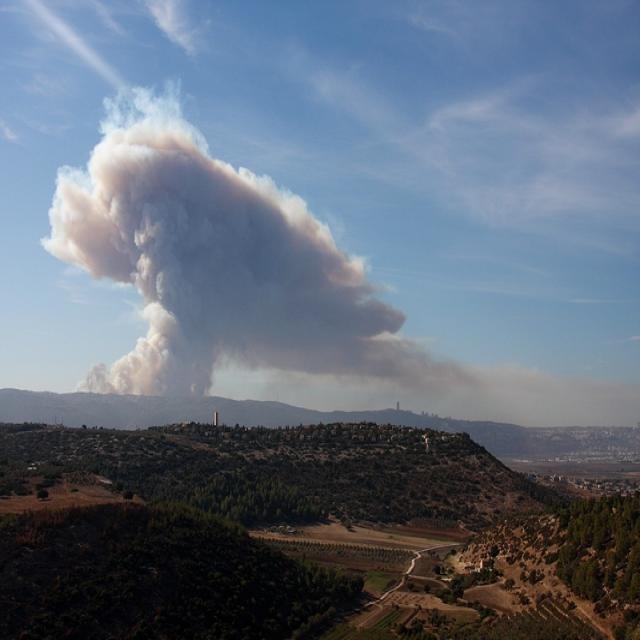Smoke: (39, 118, 406, 396)
